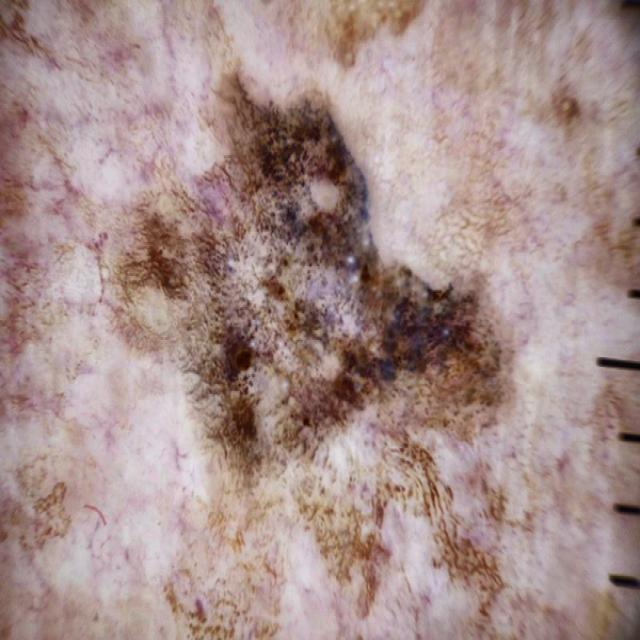Benign-Keratosis-like-Lesions-BKL-: (115, 88, 501, 593)
